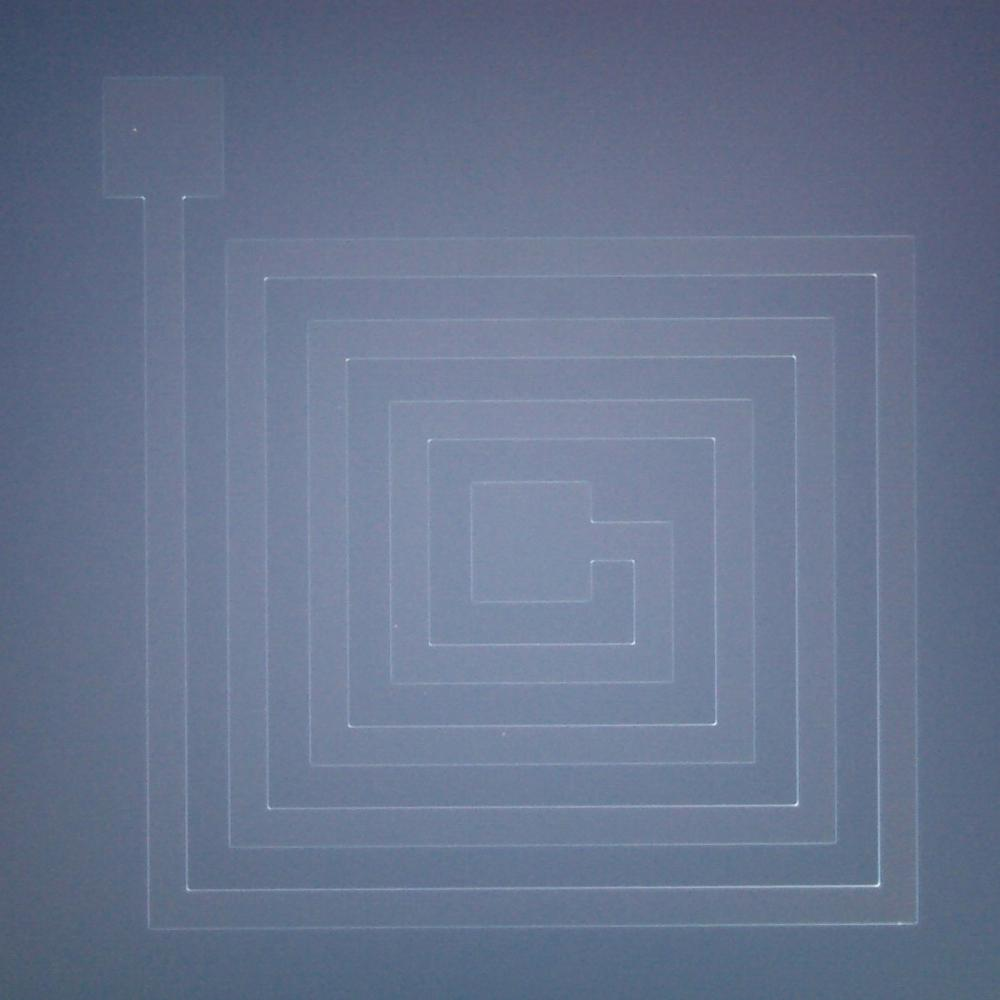dot: (133, 128, 137, 132)
